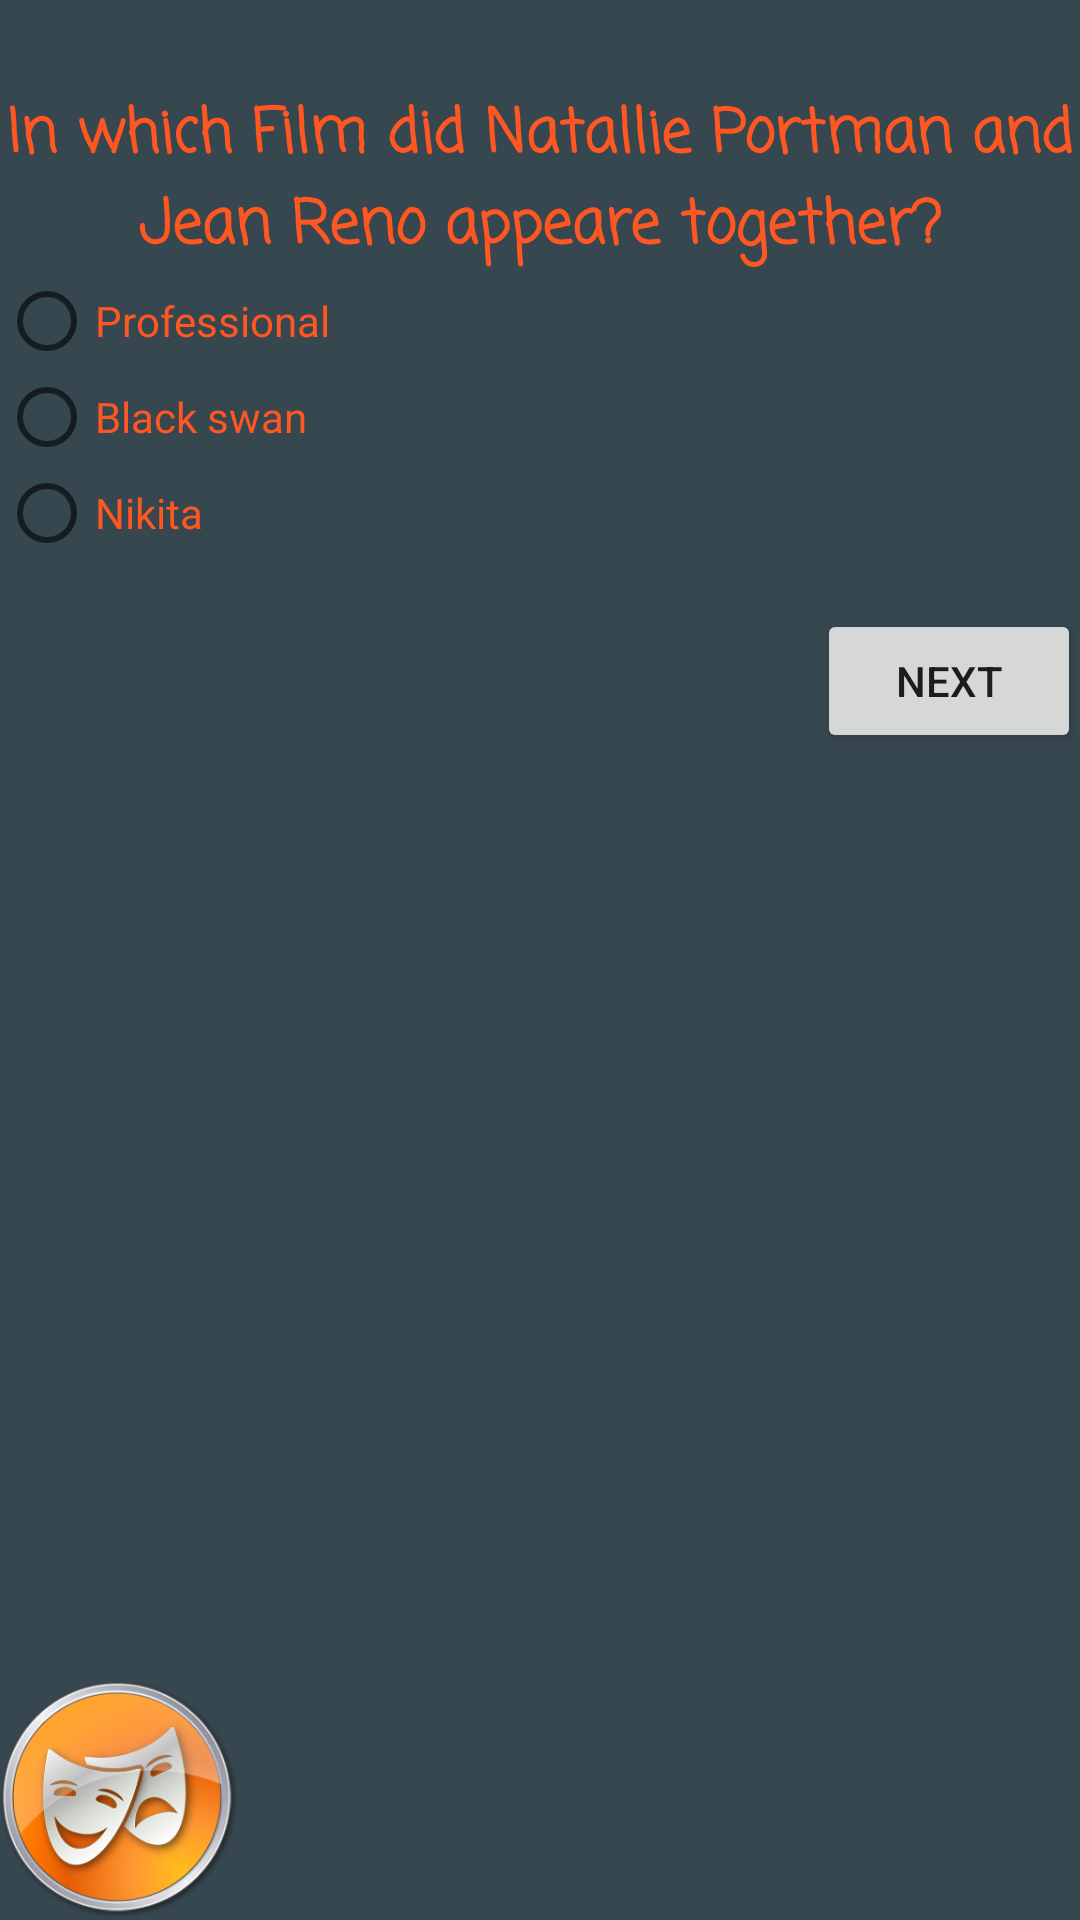

Point at icon controls on the screen. Image size 1080 × 1920, points as [x,y].
theater: [117,1798]
